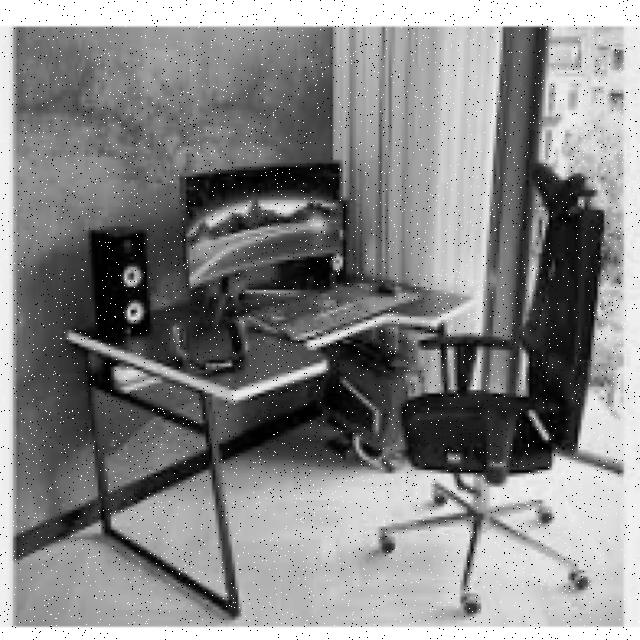book: (376, 160, 604, 613)
table: (62, 270, 474, 617)
